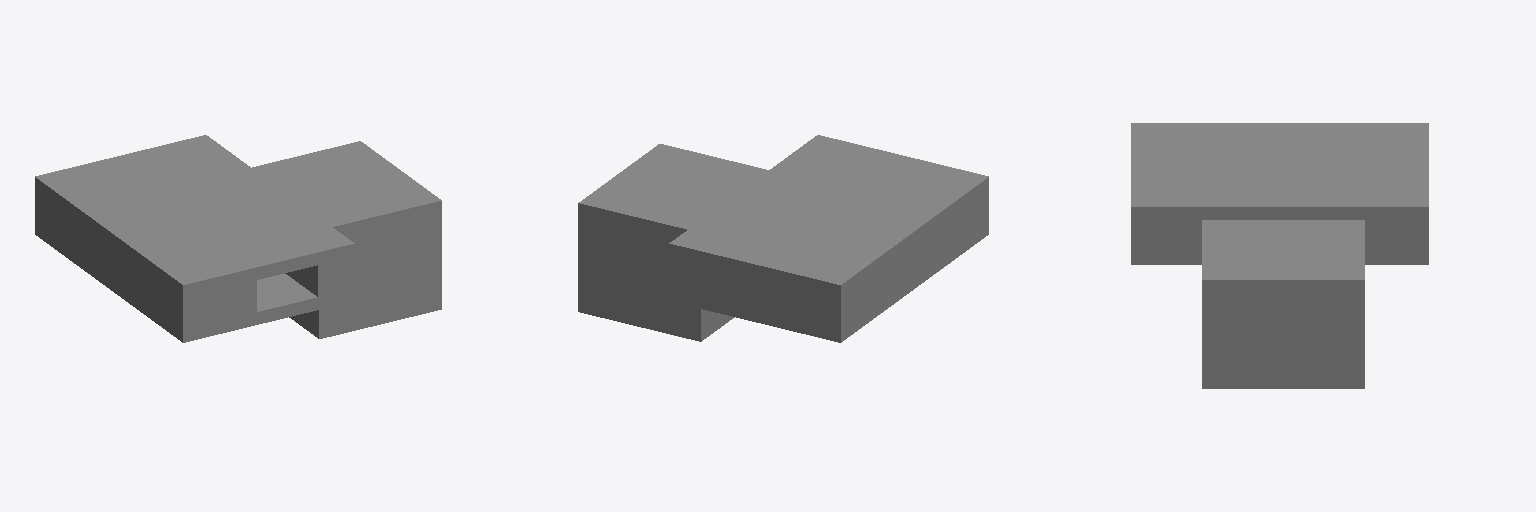
File: testgi.obj
3 renders of one model, left to right at view 1: azimuth 30°, elevation 25°; view 2: azimuth 150°, elevation 25°; view 3: azimuth 270°, elevation 25°, orthographic.
Visible parts, largest first — view 1: testgi; view 2: testgi; view 3: testgi.
Boxes of the visible parts, <box> form: testgi: <box>35,135,441,342</box>; testgi: <box>578,135,988,342</box>; testgi: <box>1131,123,1428,388</box>.
Size of the model in its own units: 7803 by 3089 by 6828.